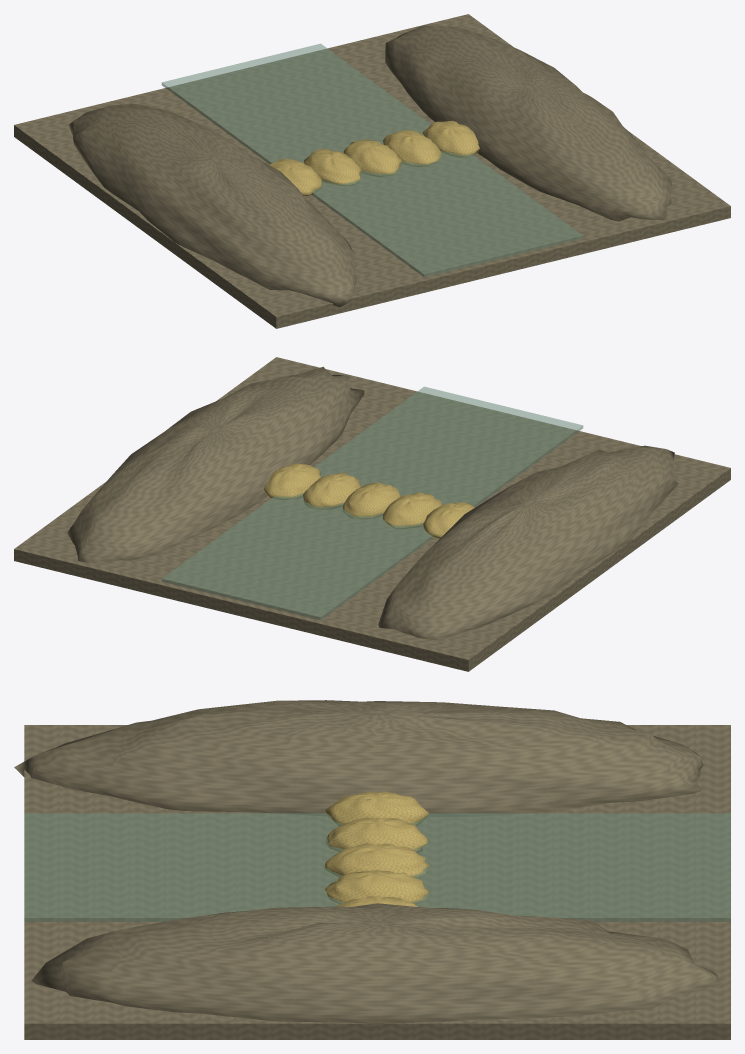
Rendered from shallow_swamp_ford_swamp_and_mangrove_22646.glb.
The picture shows the model from 3 angles, top to bottom: view 1: azimuth 30°, elevation 25°; view 2: azimuth 150°, elevation 25°; view 3: azimuth 270°, elevation 25°; orthographic projection. The views are drawn at different scales.
Visible parts, largest first — view 1: shallow-ford; view 2: shallow-ford; view 3: shallow-ford.
Boxes of the visible parts, left/top/right/bottom form: shallow-ford: left=14, top=14, right=730, bottom=328; shallow-ford: left=14, top=357, right=730, bottom=671; shallow-ford: left=14, top=700, right=730, bottom=1039.
Size of the model in its own units: 4 by 0.4754 by 4.06.
Materials: 3 (2 with a texture image).
